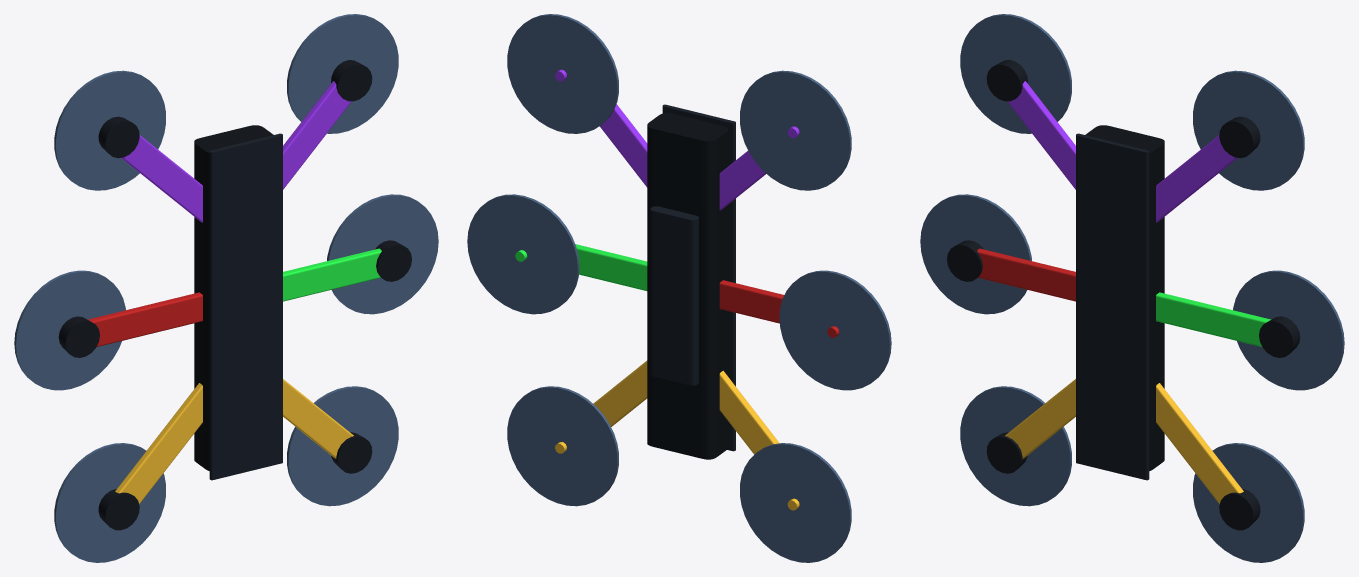
The model's file is fpv_hexarotor.obj.
3 views of the same model, side by side, from view 1: azimuth 30°, elevation 25°; view 2: azimuth 150°, elevation 25°; view 3: azimuth 330°, elevation 25° (orthographic).
Visible parts, largest first — view 1: prop_grey_5, body_mid_1, motor_dark_3, yellow_metal_8, purple_metal_2, body_dark_0, red_metal_6, green_metal_7; view 2: prop_grey_5, body_dark_0, body_mid_1, yellow_metal_8, purple_metal_2, green_metal_7, red_metal_6; view 3: prop_grey_5, body_mid_1, motor_dark_3, yellow_metal_8, purple_metal_2, body_dark_0, green_metal_7, red_metal_6.
Part boxes in pixels (x1,y1,x2,y2): prop_grey_5: (14,14,438,562); body_mid_1: (209,133,282,480); motor_dark_3: (58,60,411,530); yellow_metal_8: (115,379,353,504); purple_metal_2: (121,81,351,222); body_dark_0: (194,125,273,470); red_metal_6: (88,292,202,346); green_metal_7: (283,248,381,301); prop_grey_5: (467,14,891,562); body_dark_0: (647,113,728,459); body_mid_1: (650,104,735,451); yellow_metal_8: (555,360,799,510); purple_metal_2: (555,69,799,210); green_metal_7: (515,244,647,290); red_metal_6: (719,280,839,337); prop_grey_5: (920,14,1344,562); body_mid_1: (1076,133,1149,480); motor_dark_3: (947,60,1300,530); yellow_metal_8: (1005,379,1243,504); purple_metal_2: (1007,81,1237,222); body_dark_0: (1085,125,1164,470); green_metal_7: (1156,292,1270,346); red_metal_6: (977,248,1075,301).
Bounding box in the file's own units: 0.841 × 0.927 × 0.1001.
